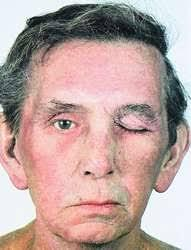strokeEyeSevere: (37, 95, 158, 143)
strokeMouthWeak: (55, 195, 132, 219)
